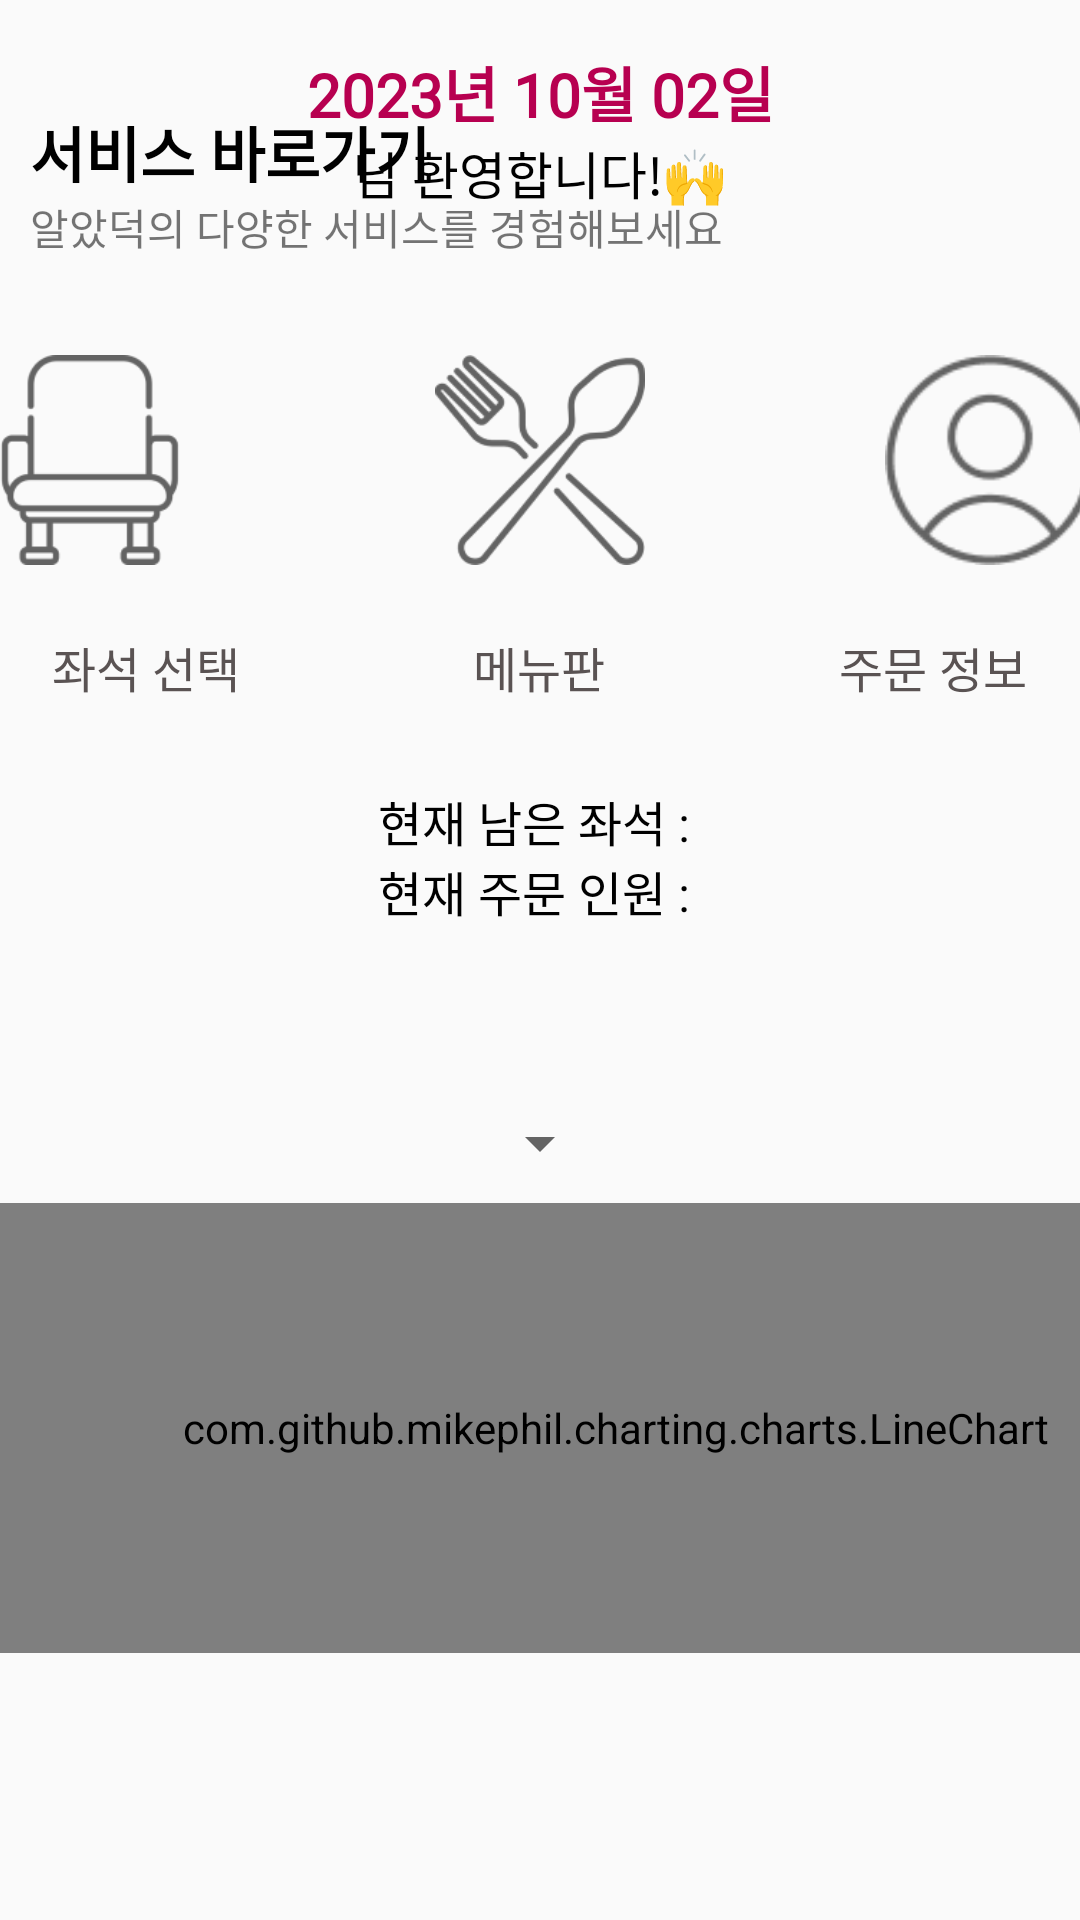

Where icons sit on this 1080w x 1920h app screen, as {"left": x1, "top": y1, "right": x2, "bottom": y2}:
mealicon: {"left": 435, "top": 355, "right": 645, "bottom": 565}
profile: {"left": 885, "top": 355, "right": 1080, "bottom": 565}
seaticon: {"left": 1, "top": 355, "right": 179, "bottom": 565}
